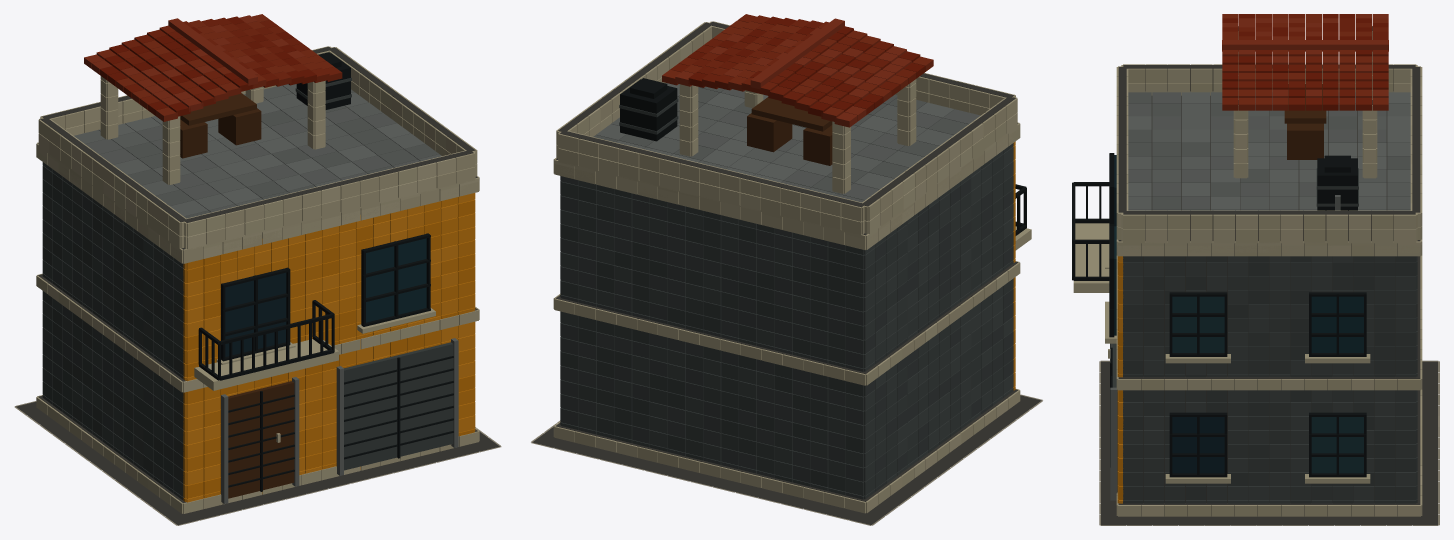
File: SM_Mapa_053.fbx
3 views of the same model, side by side, from view 1: azimuth 30°, elevation 25°; view 2: azimuth 150°, elevation 25°; view 3: azimuth 270°, elevation 25° (orthographic). The views are drawn at different scales.
Visible parts, largest first — view 1: SM_Mapa_053; view 2: SM_Mapa_053; view 3: SM_Mapa_053.
Boxes of the visible parts, left/top/right/bottom form: SM_Mapa_053: left=14, top=14, right=501, bottom=525; SM_Mapa_053: left=531, top=14, right=1042, bottom=525; SM_Mapa_053: left=1072, top=14, right=1439, bottom=525.
Size of the model in its own units: 8 by 7.53 by 8.74.
